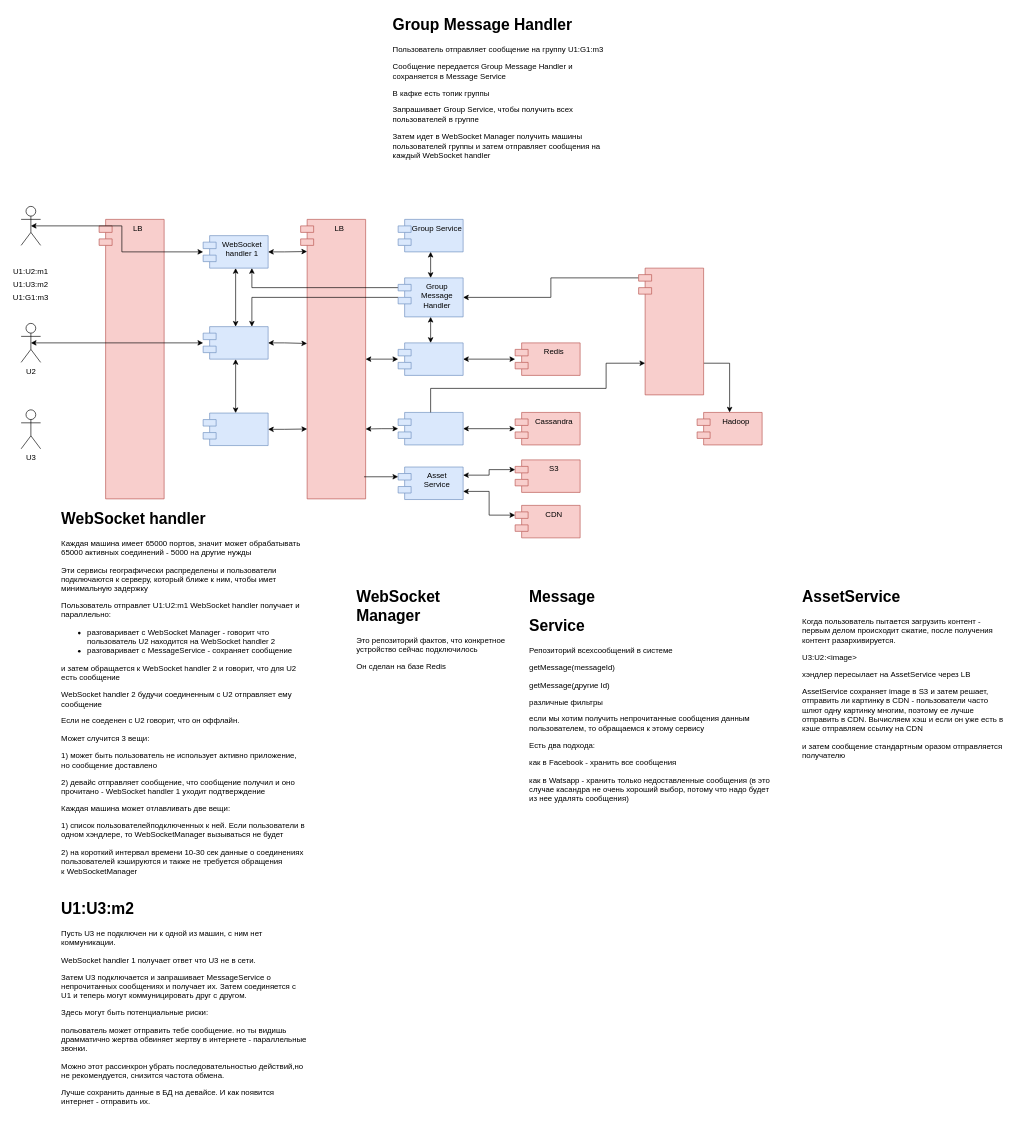
The diagram is 1020 pixels wide and 1142 high, and some of its shapes have lost their labels. Here are the shapes that lost their labels. From the top down, the centre of each, then its label:
(x=30, y=225): U1
(x=235, y=342): WebSocket handler 2
(x=671, y=331): Kafka
(x=430, y=358): WebSocket Manager
(x=235, y=429): WebSocket handler 3
(x=430, y=428): Message Service
